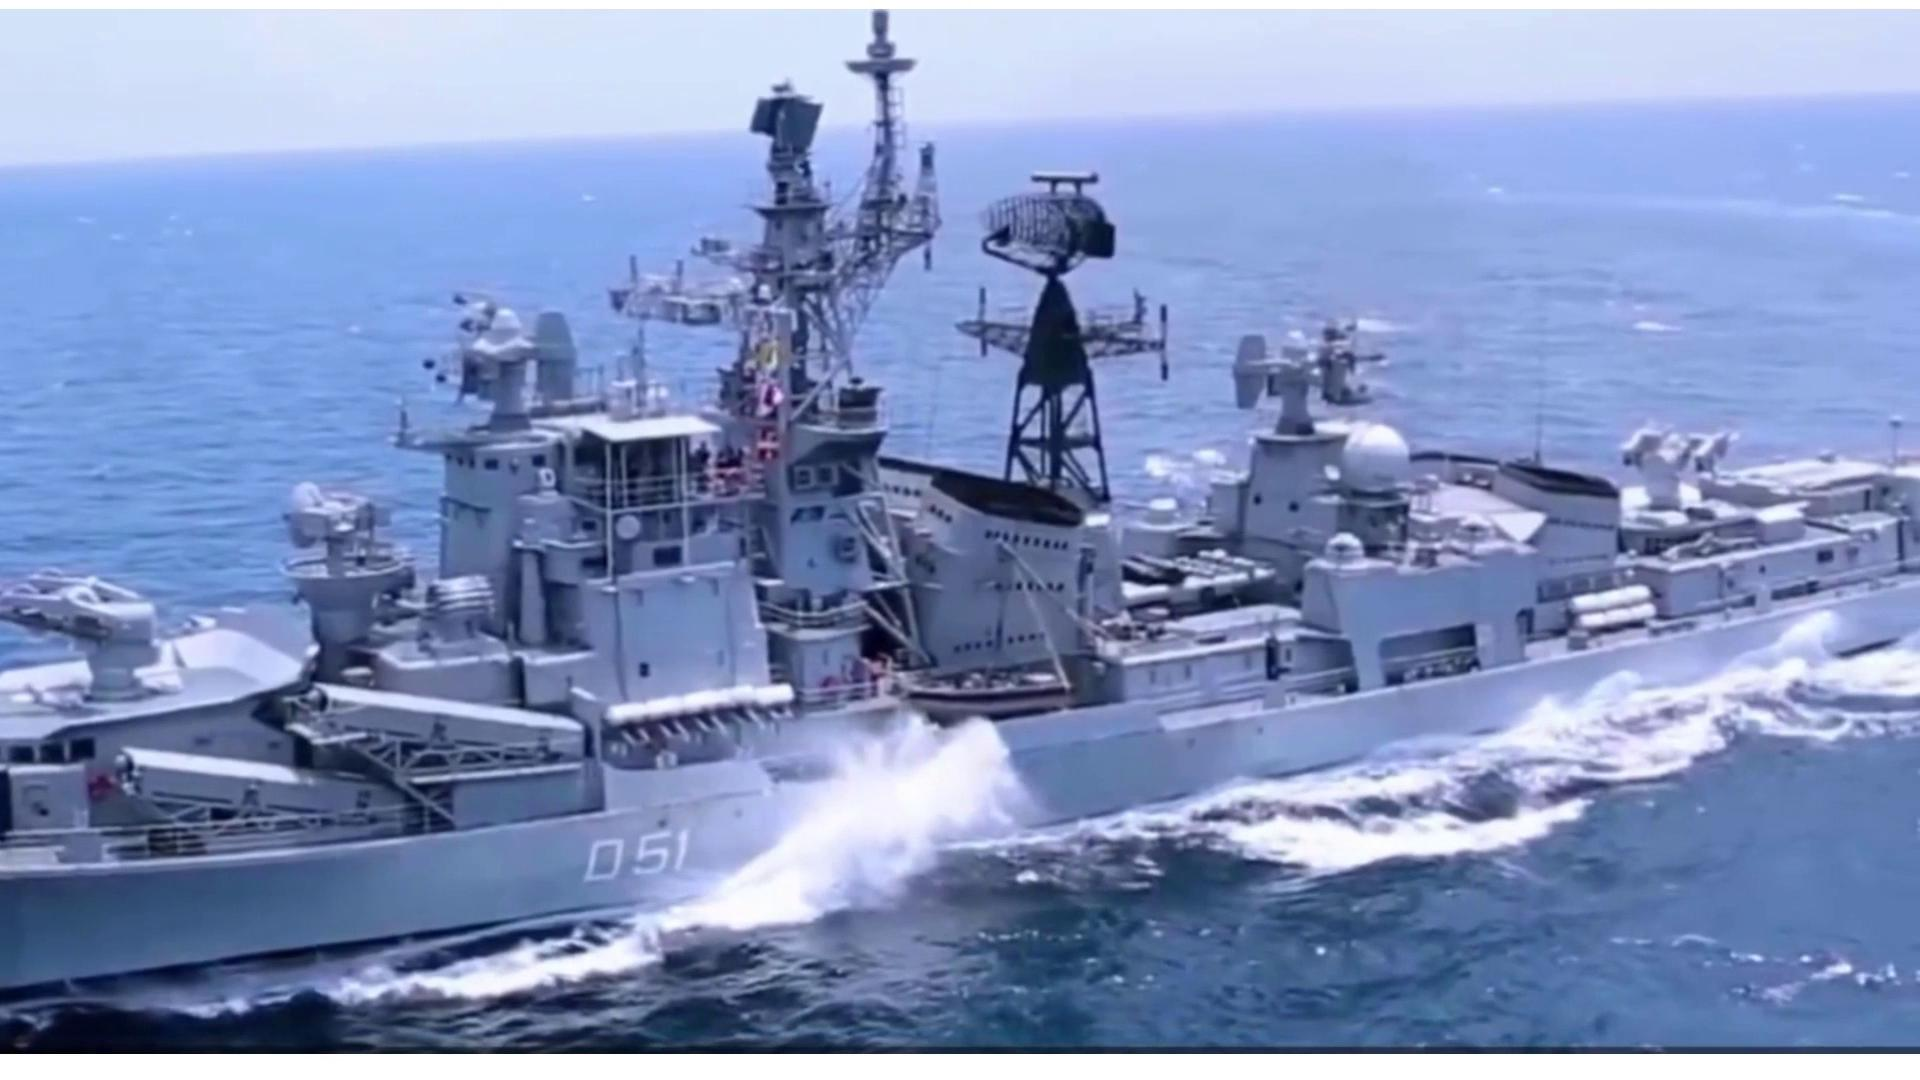OCR: (548, 810, 699, 896)
